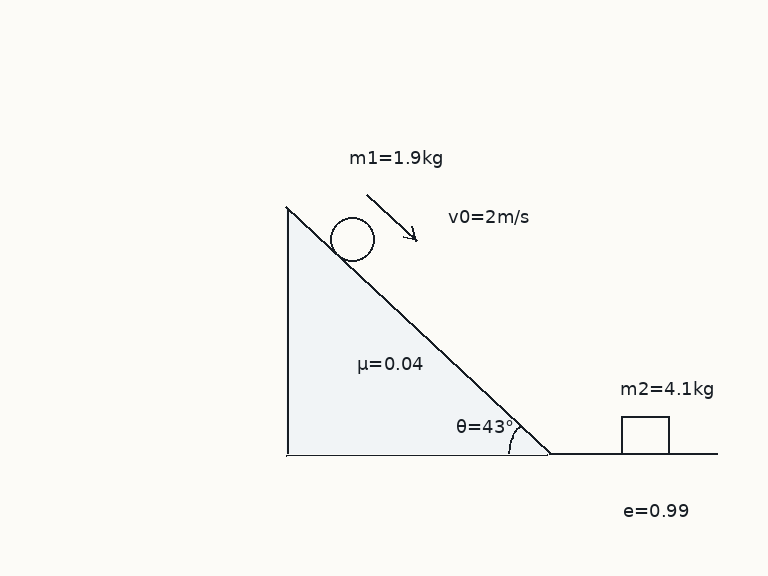ball: (328, 215, 376, 263)
block: (619, 415, 671, 455)
ramp: (284, 206, 551, 455)
